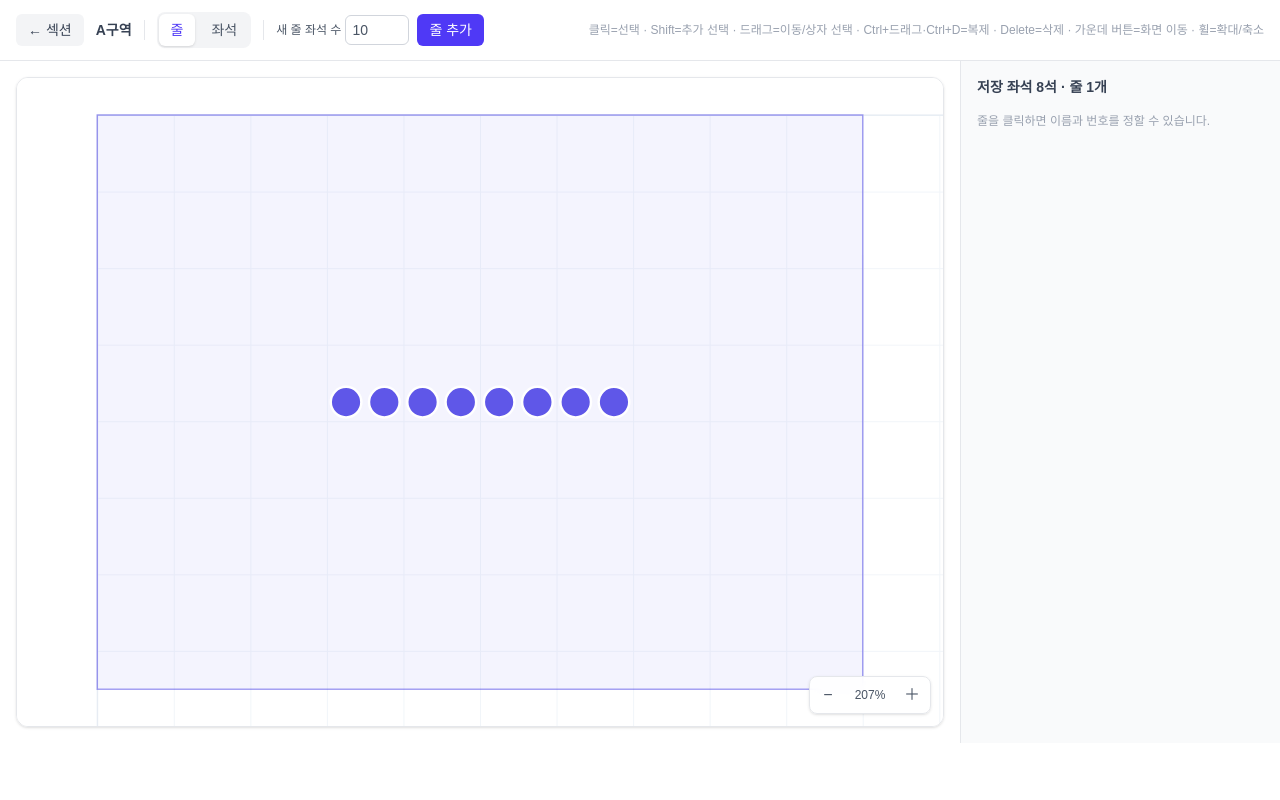
Test: 좌석 모드: 마퀴로 고른 좌석을 사용 안 함 → 건너뛰기면 저장 좌석이 준다
The image size is (1280, 800).
Press the mouse on the icon: (480, 402) 17,78 -> 943,726
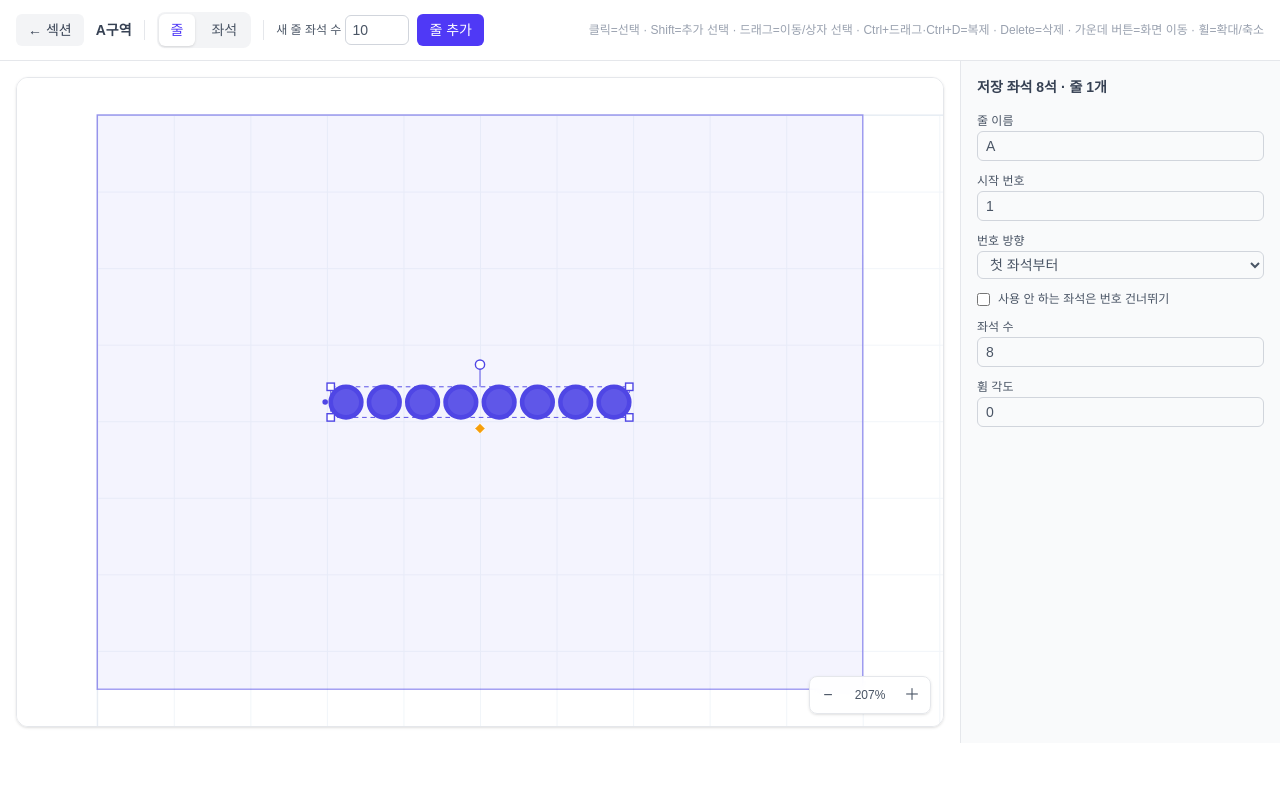
Click the checkbox labelled "사용 안 하는 좌석은 번호 건너뛰기": (984, 299) 977,292 -> 990,306
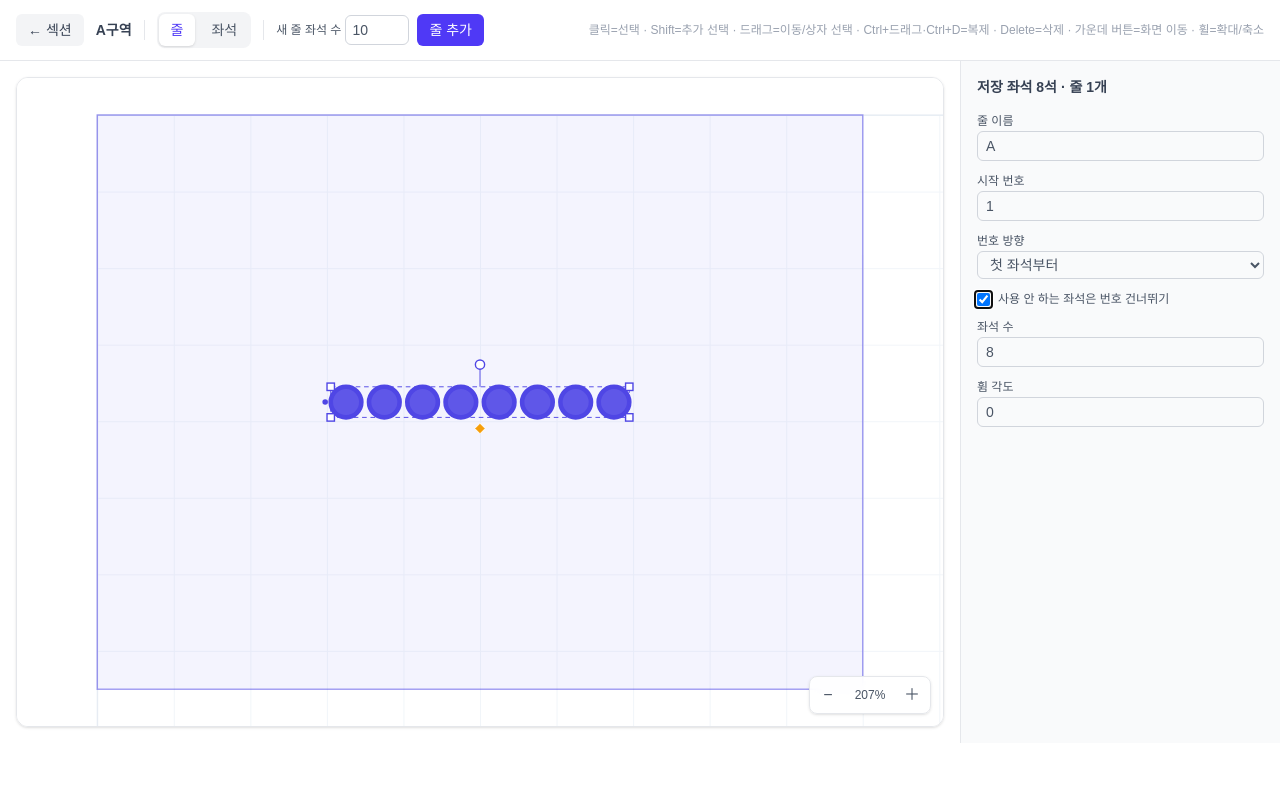
Click the button "좌석": (224, 30) 199,14 -> 249,46
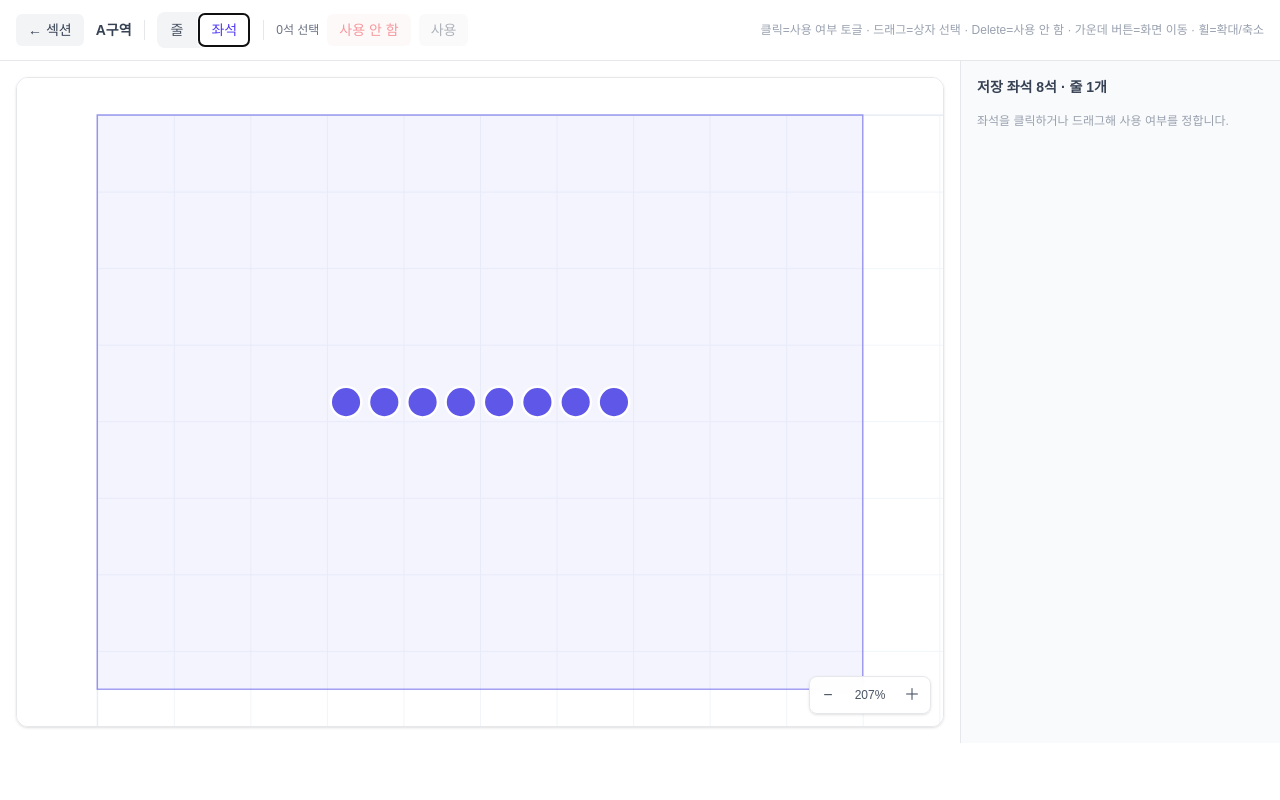
Press the mouse on the icon: (480, 402) 17,78 -> 943,726
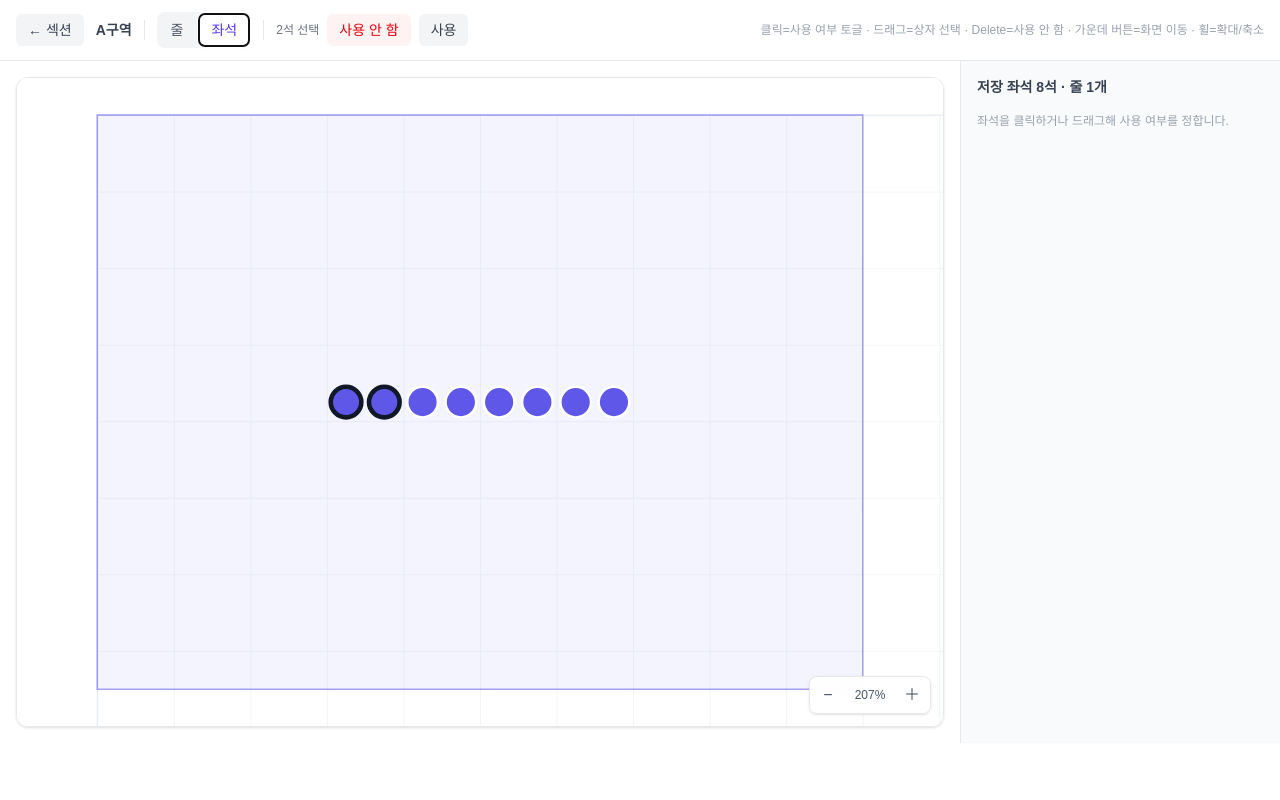
Expected: the text "2석 선택" is shown, 276,22 -> 319,38
Click the button "사용 안 함": (369, 30) 327,14 -> 411,46
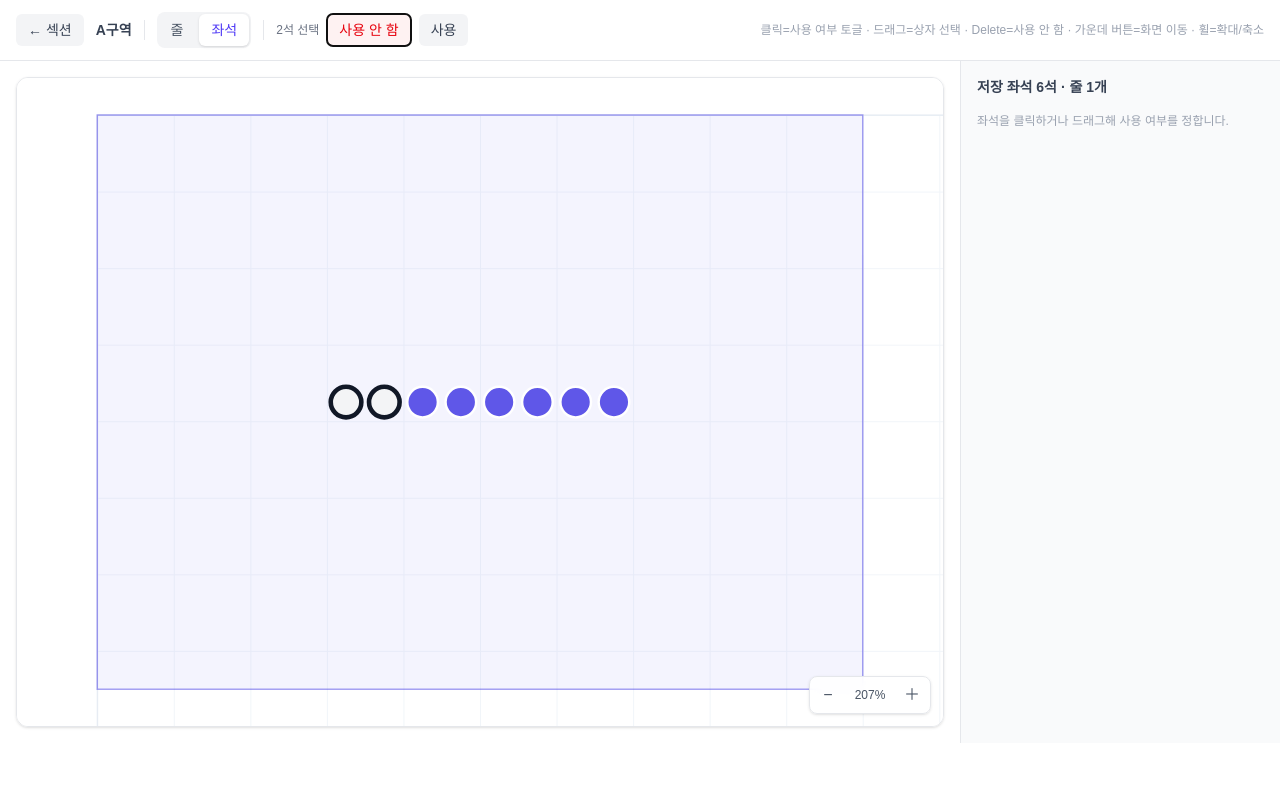
Expected: the heading "저장 좌석 6석 · 줄 1개" is shown, 977,79 -> 1107,95
